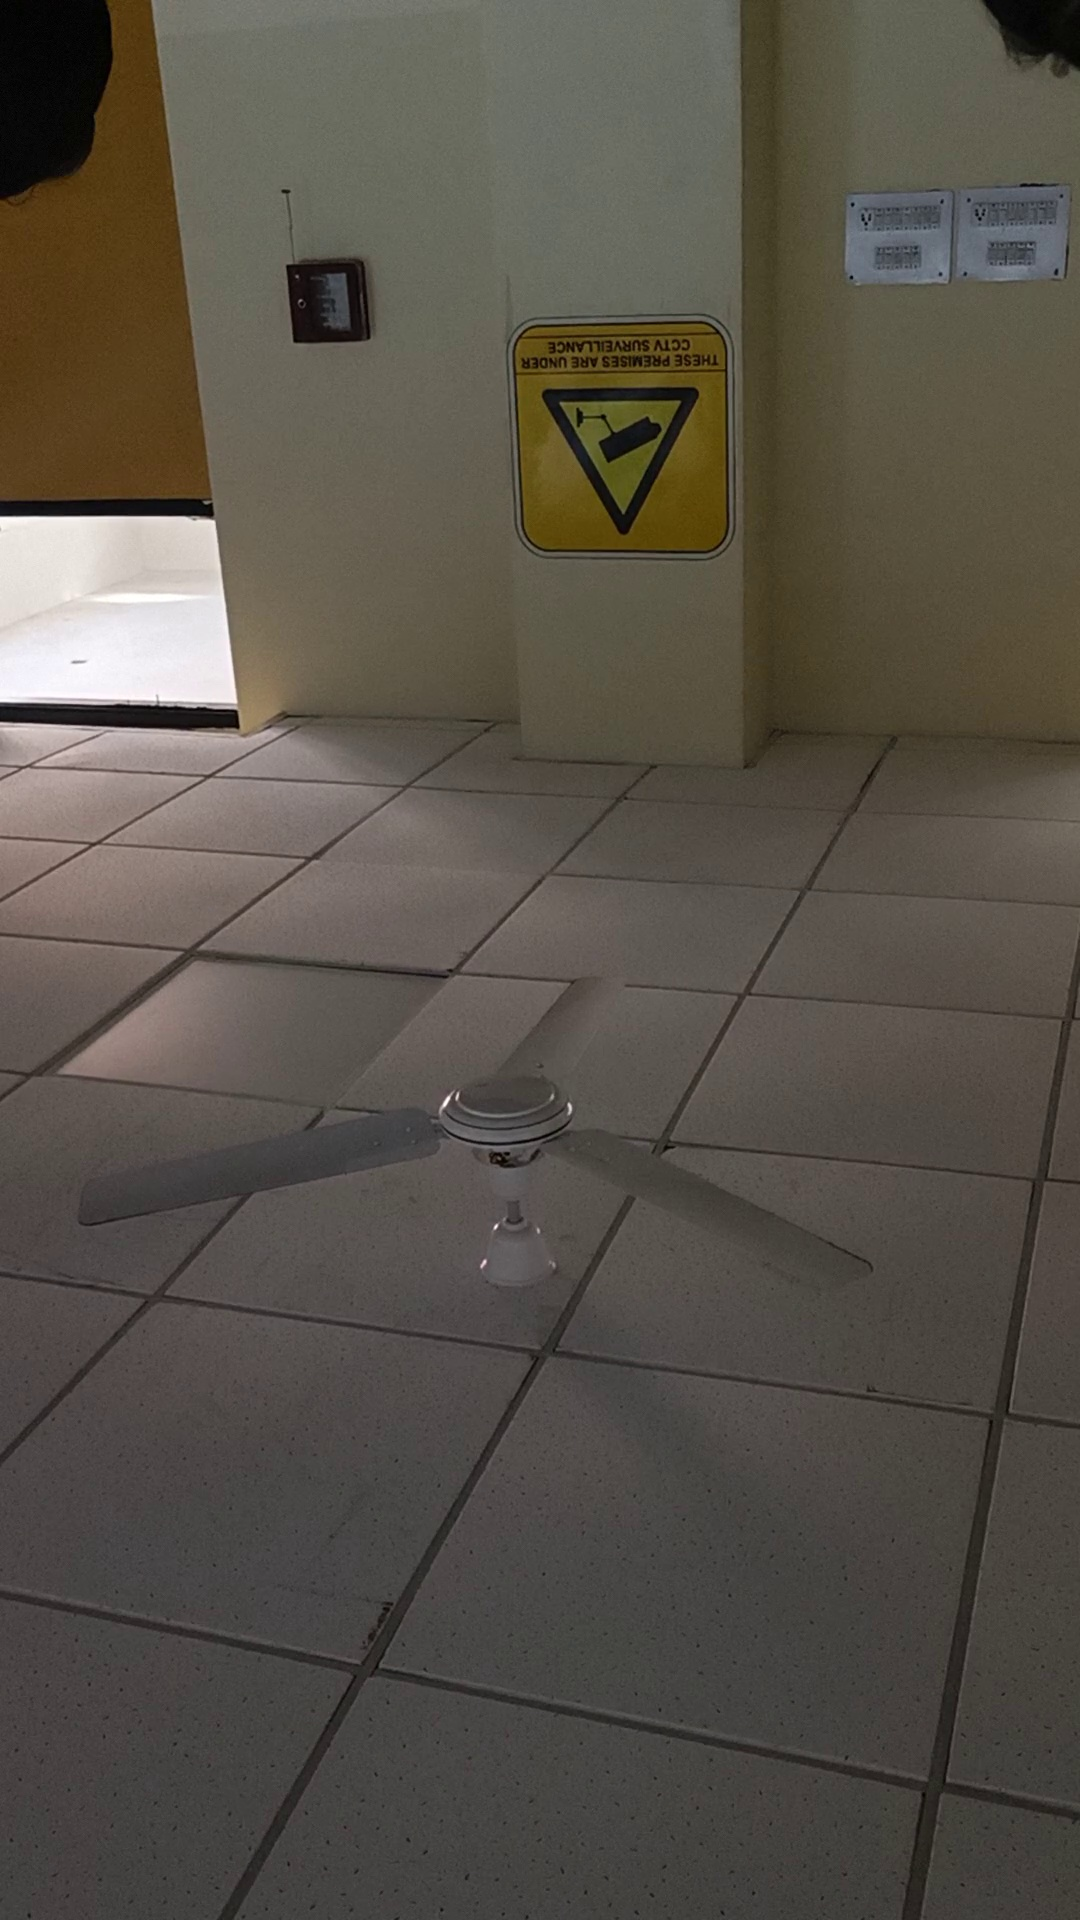fan: (59, 959, 930, 1360)
